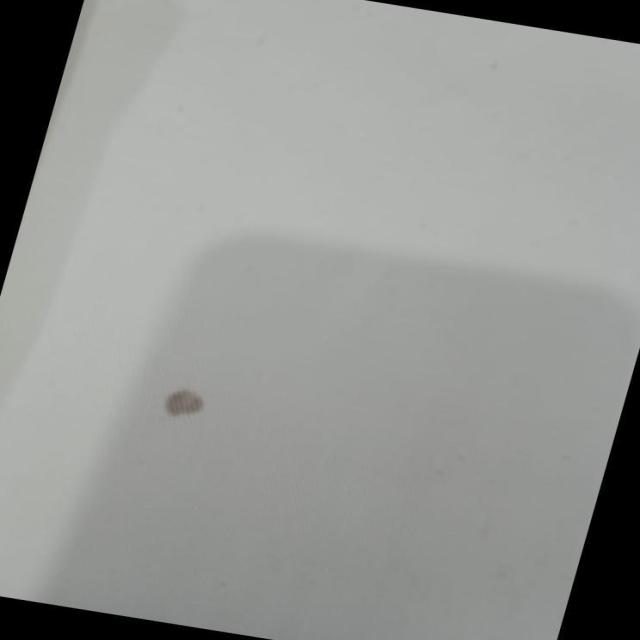stain: (136, 374, 236, 428)
